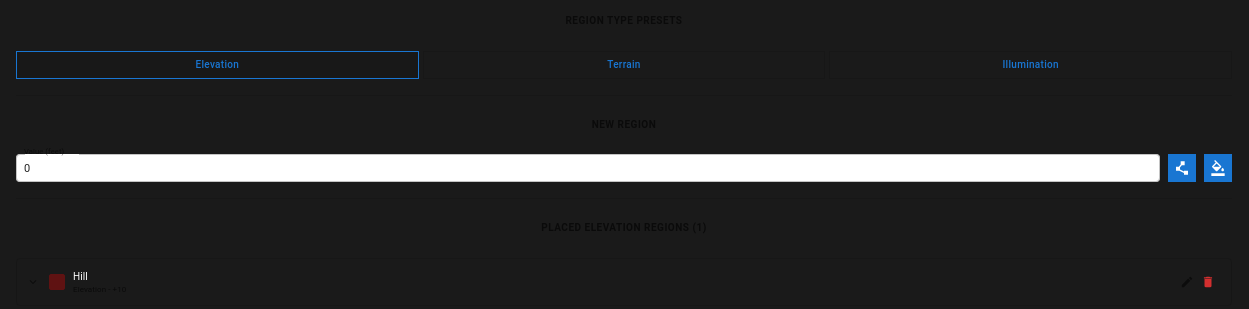
Test: RegionsPanel › Region List Display › should filter regions by selected type
The image size is (1249, 309).
// Select Terrain type
Click the button "Terrain" at (624, 65), box [423,51,825,79]
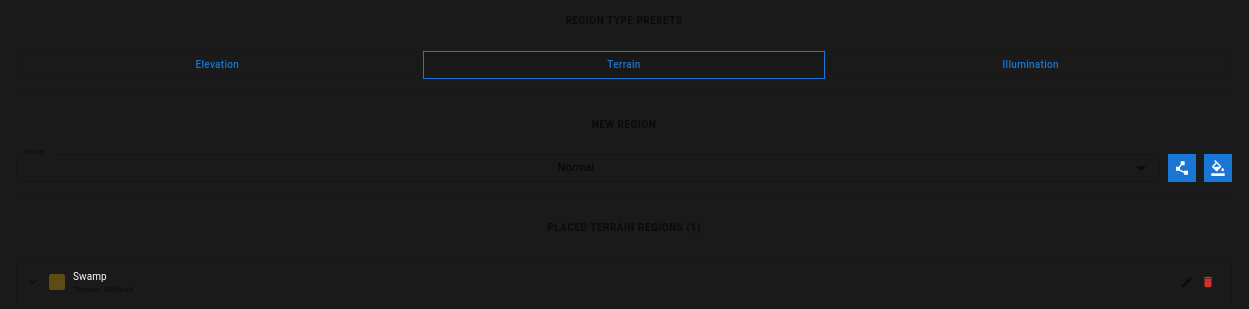
Expected: the text "Swamp" is shown, [73,271,107,282]
Expected: the button "Hill" is gone
